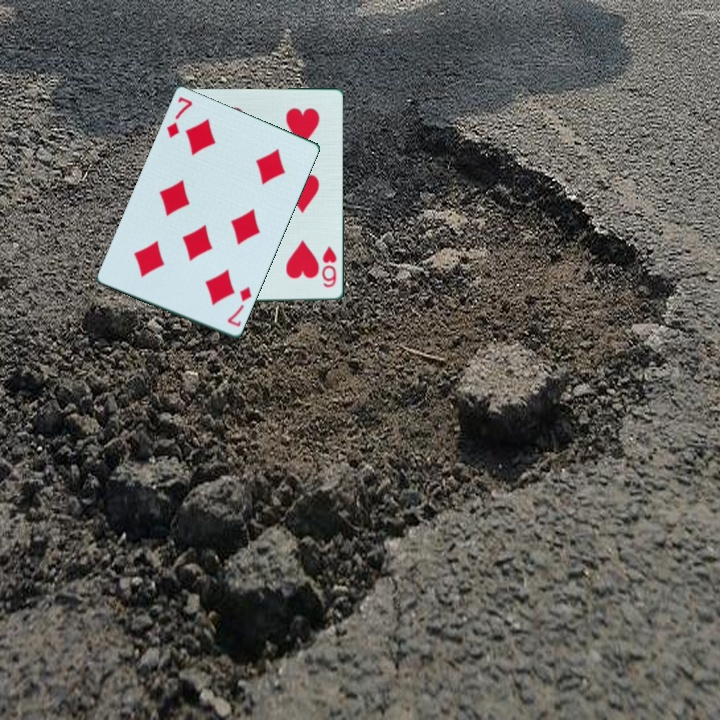6h: (319, 243, 340, 290)
7d: (163, 94, 196, 142), (224, 283, 255, 330)
